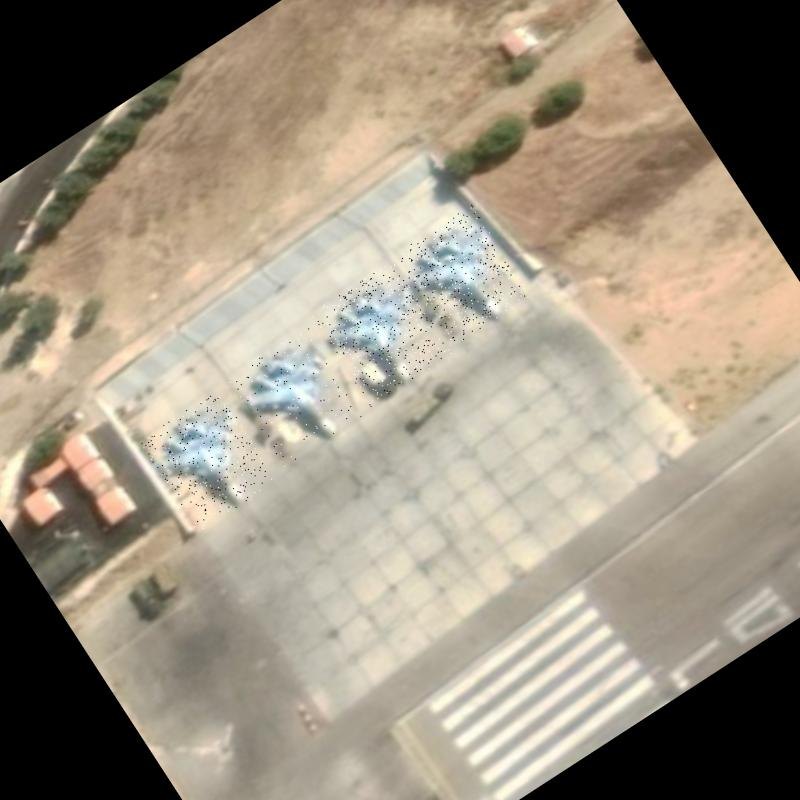A19: (310, 260, 454, 406), (227, 325, 368, 469), (139, 389, 278, 532), (394, 204, 531, 346)
